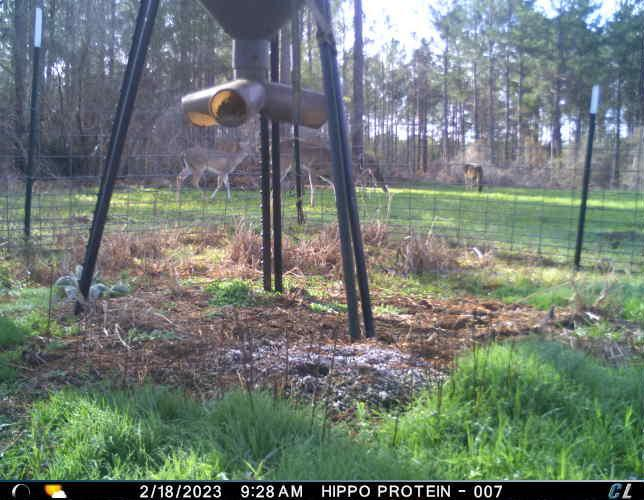Deer: (177, 132, 248, 197), (277, 134, 339, 205), (456, 154, 488, 196)
